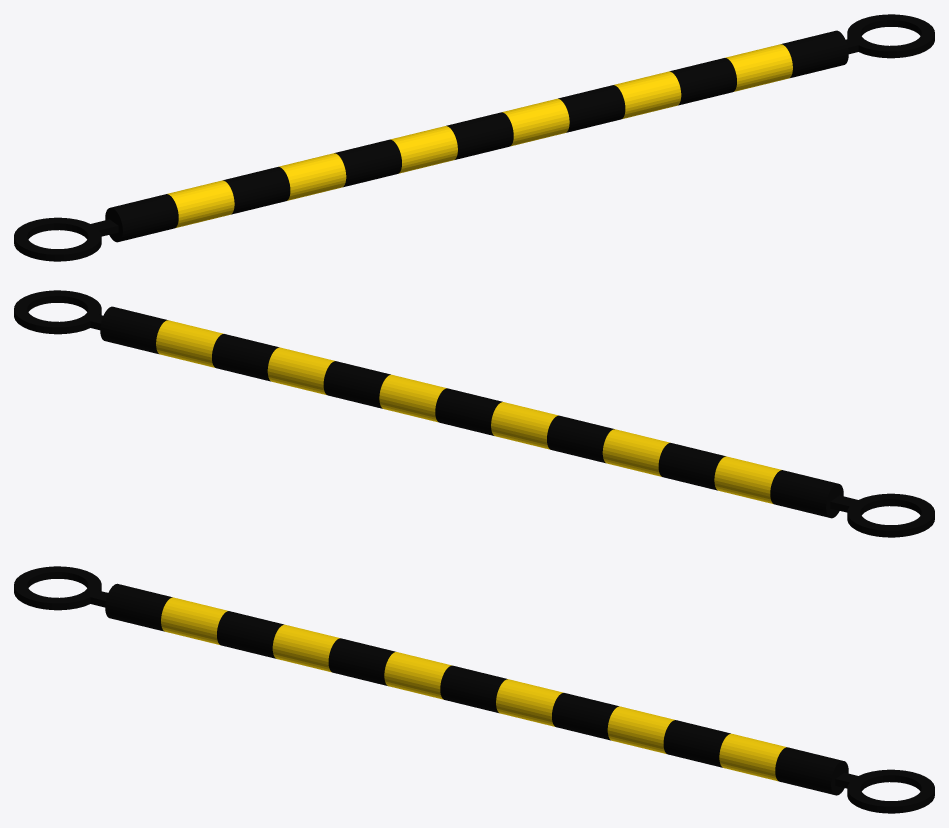
Rendered from コーンバー.fbx.
3 views of the same model, one above another, from view 1: azimuth 30°, elevation 25°; view 2: azimuth 150°, elevation 25°; view 3: azimuth 330°, elevation 25° (orthographic).
Parts seen in each view (by area): view 1: 三角コーン.001; view 2: 三角コーン.001; view 3: 三角コーン.001.
Part boxes in pixels (box(x1,y1,x2,y2)): 三角コーン.001: box(14, 14, 934, 261); 三角コーン.001: box(14, 290, 934, 537); 三角コーン.001: box(14, 566, 934, 813).
Size of the model in its own units: 1165 by 39.39 by 97.54.
